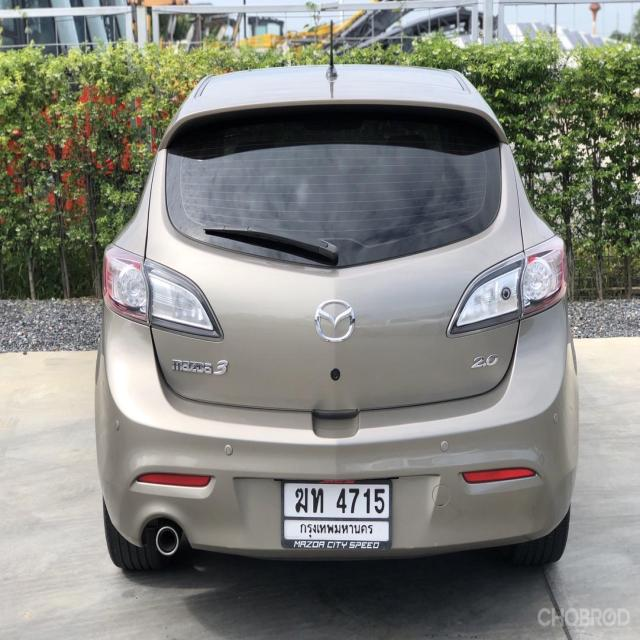license_plate: (283, 479, 392, 552)
